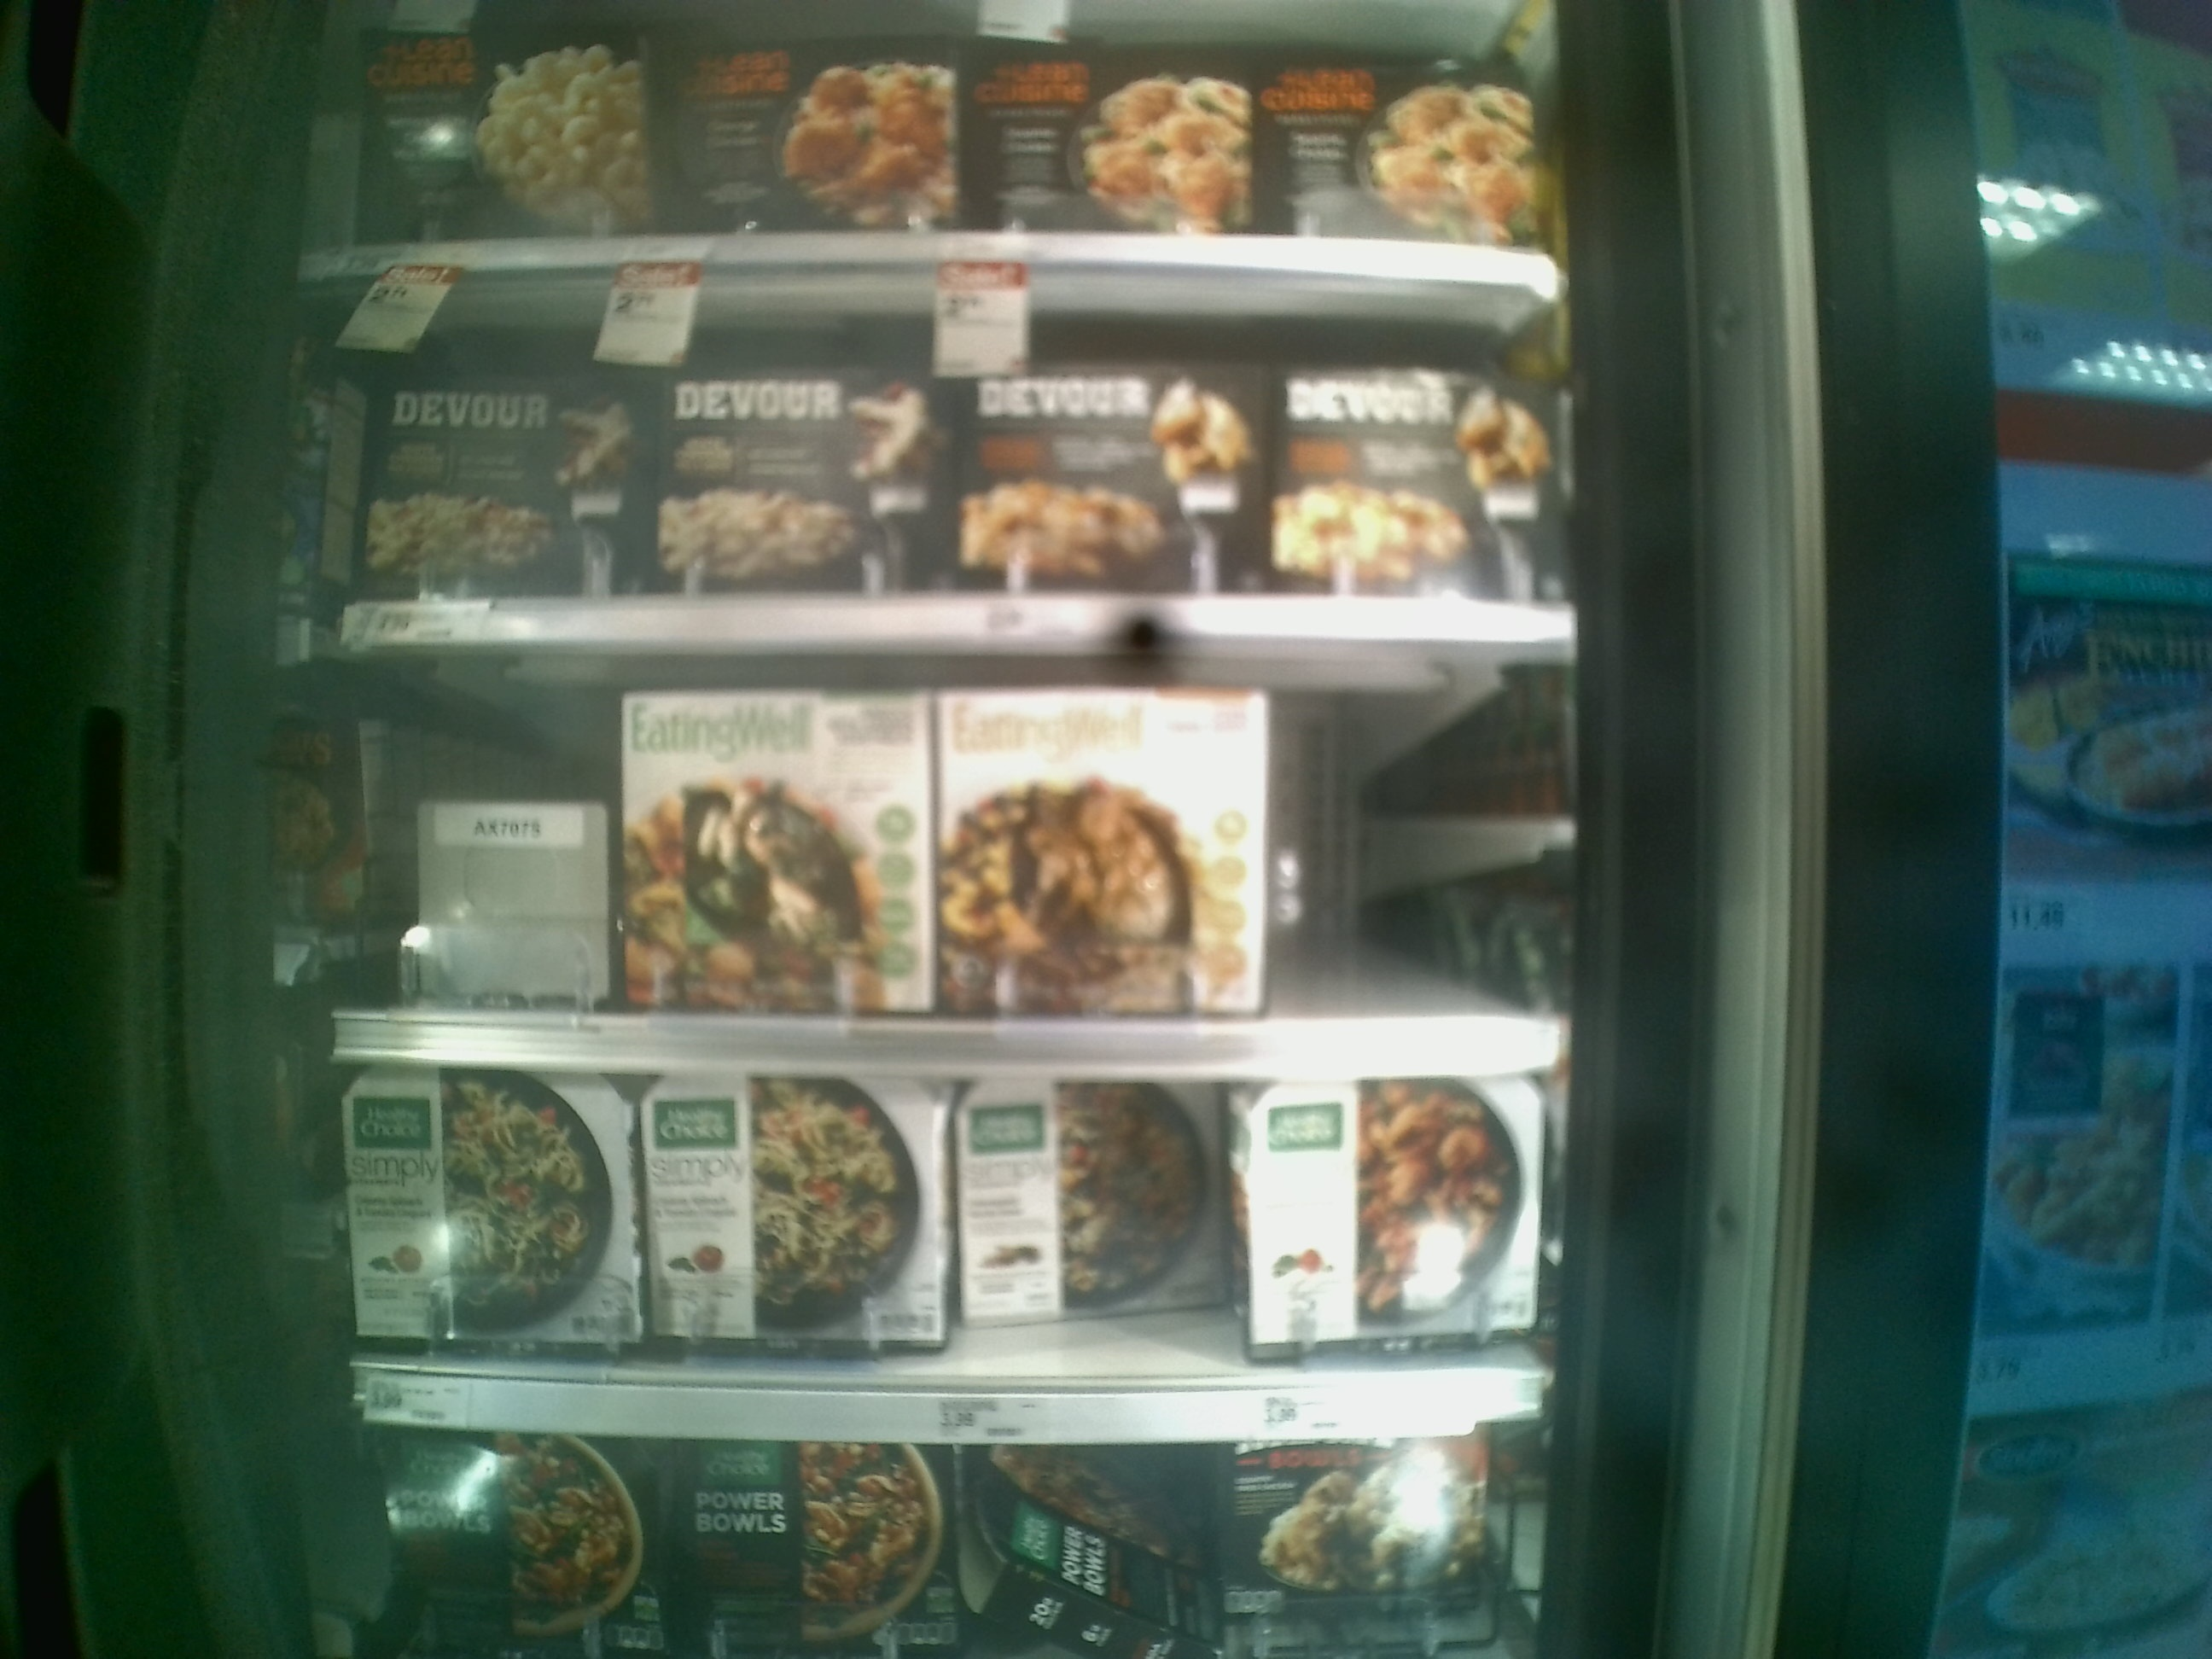shelf: (354, 254, 1595, 648)
